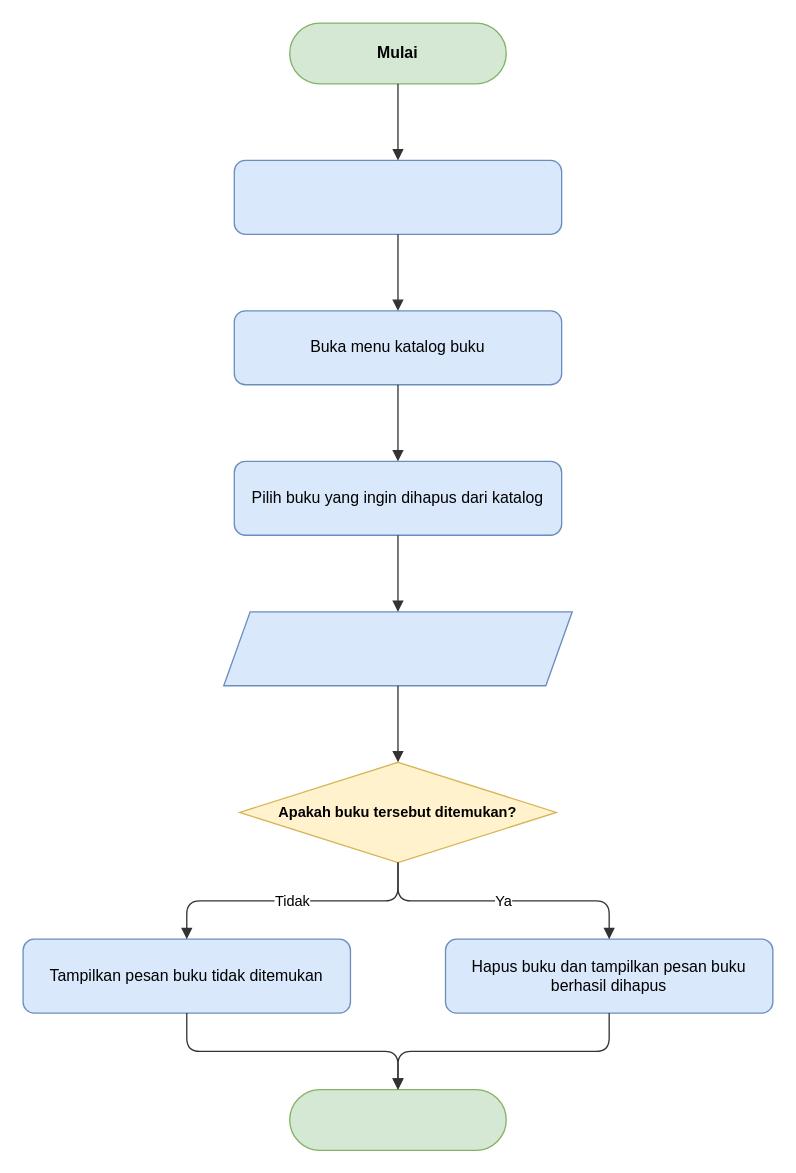
This 796x1173 diagram has some shape labels left out. Here are the shapes that lost their labels. From the top down, the box of each, then its label:
(233, 159, 562, 234): Masuk sebagai Admin
(222, 610, 572, 686): Klik tombol hapus buku
(288, 1088, 506, 1150): Selesai
